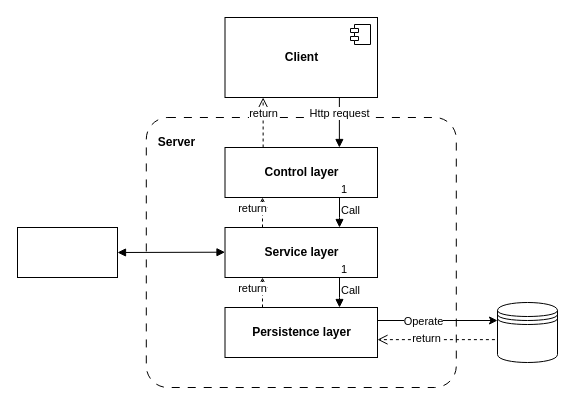
Image size: 575x405. Some labels were removed from this diagram. The centre of each missing label's shape, as x and y in pixels:
"Database" belongs at [527,332].
"Third party API" belongs at [67,252].
